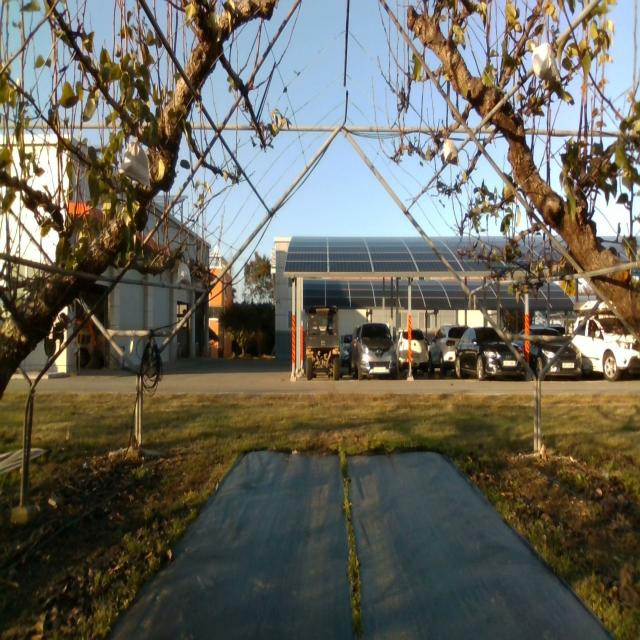pearbags: (121, 136, 151, 188), (529, 42, 561, 83), (442, 138, 460, 166), (176, 256, 192, 285)
